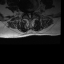CCS_normal: (28, 11, 30, 19)
LFS_severe_stenosis: (31, 10, 33, 15)
LLS_severe_stenosis: (30, 11, 31, 17)
RFS_severe_stenosis: (25, 11, 27, 15)
RLS_severe_stenosis: (27, 10, 28, 16)
